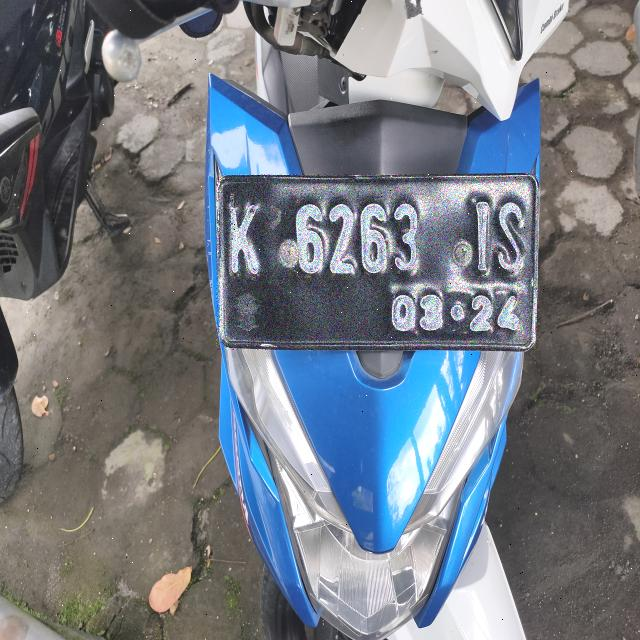plate: (217, 175, 537, 349)
